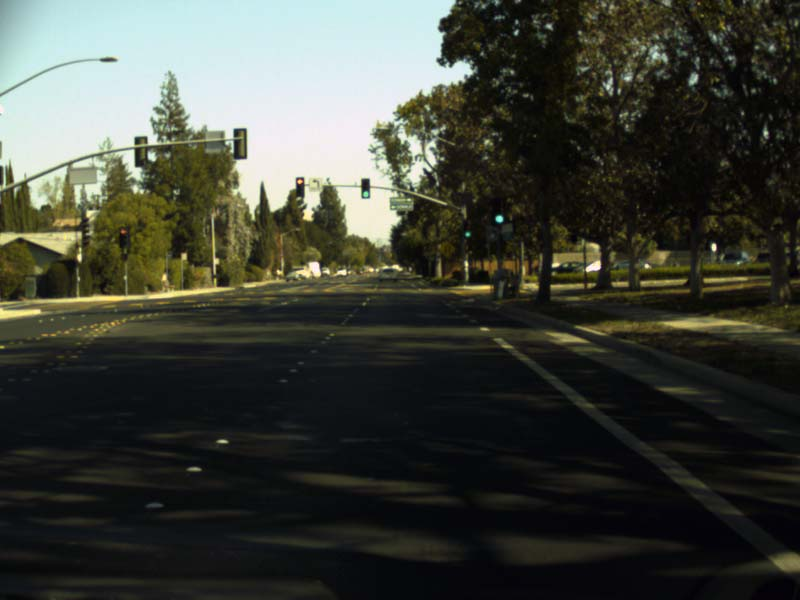Green: (493, 199, 504, 223), (361, 178, 369, 197), (463, 220, 470, 237)
Red: (296, 178, 303, 195), (121, 228, 127, 247)
